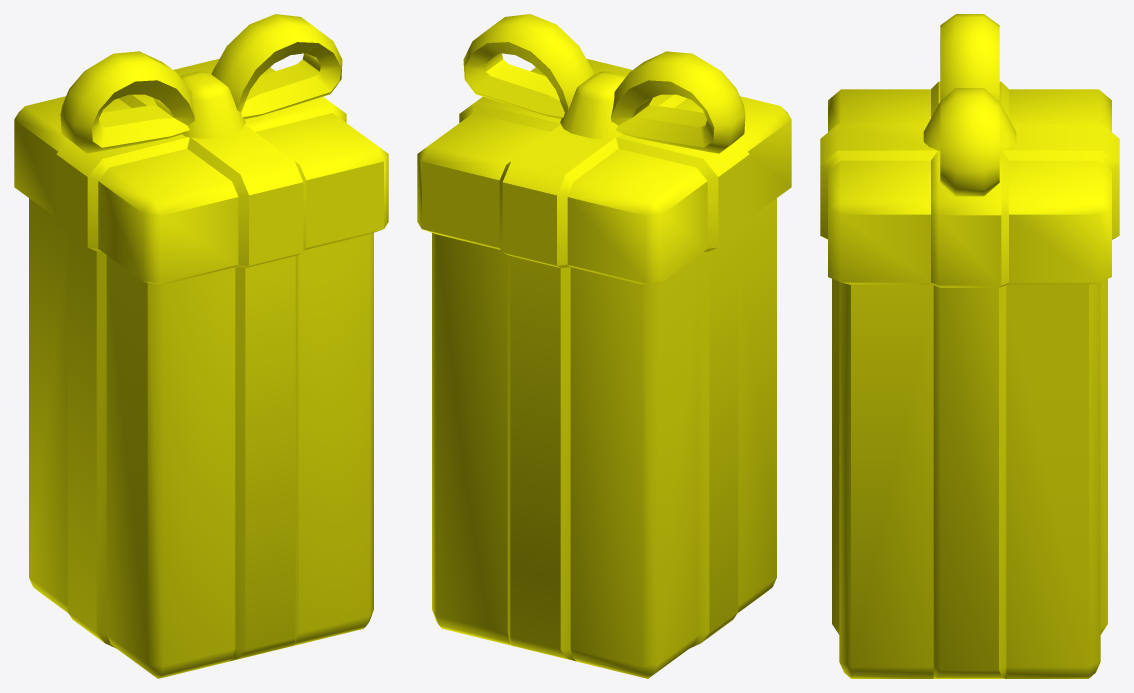
The model's file is kaykit-present-b-red.glb.
3 views of the same model, side by side, from view 1: azimuth 30°, elevation 25°; view 2: azimuth 150°, elevation 25°; view 3: azimuth 270°, elevation 25° (orthographic).
Parts seen in each view (by area): view 1: present_B_red; view 2: present_B_red; view 3: present_B_red.
Boxes of the visible parts, <box> form: present_B_red: <box>14,14,388,678</box>; present_B_red: <box>417,14,791,678</box>; present_B_red: <box>820,14,1119,678</box>.
Size of the model in its own units: 0.5214 by 1.06 by 0.5037.
